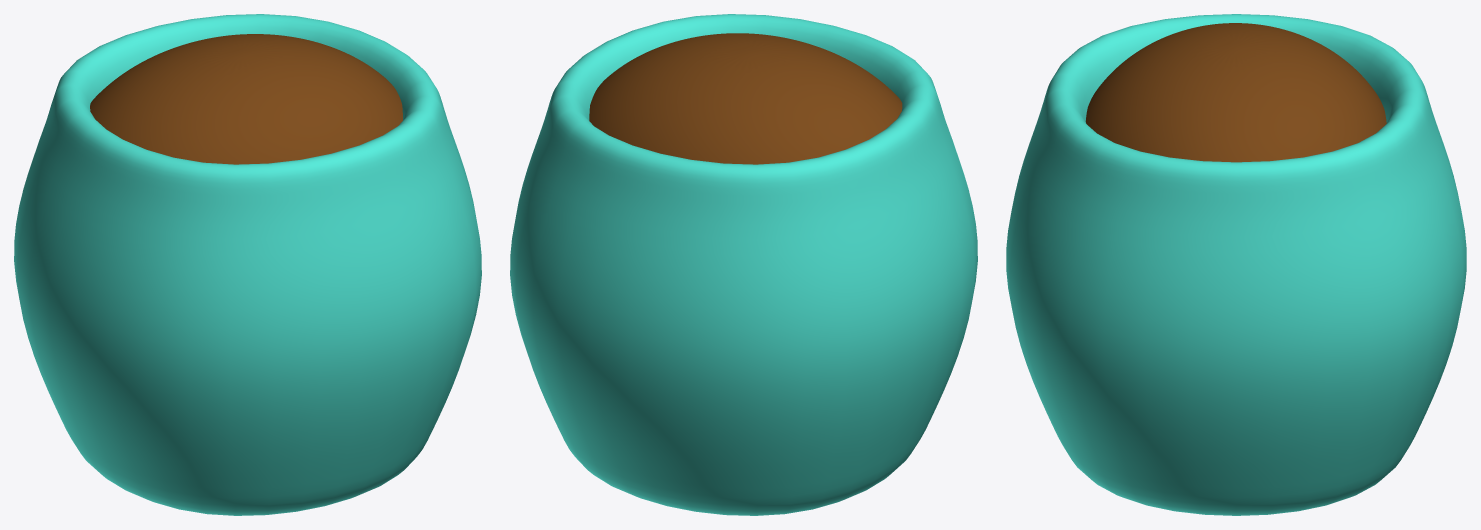
Rendered from mac invierno2.fbx.
3 renders of one model, left to right at view 1: azimuth 30°, elevation 25°; view 2: azimuth 150°, elevation 25°; view 3: azimuth 270°, elevation 25°, orthographic.
Parts seen in each view (by area): view 1: Cube.021; view 2: Cube.021; view 3: Cube.021.
Part boxes in pixels (x1,y1,x2,y2): Cube.021: (14, 14, 481, 515); Cube.021: (510, 14, 977, 515); Cube.021: (1006, 14, 1466, 515).
Bounding box in the file's own units: 31.43 × 31.16 × 31.43.
